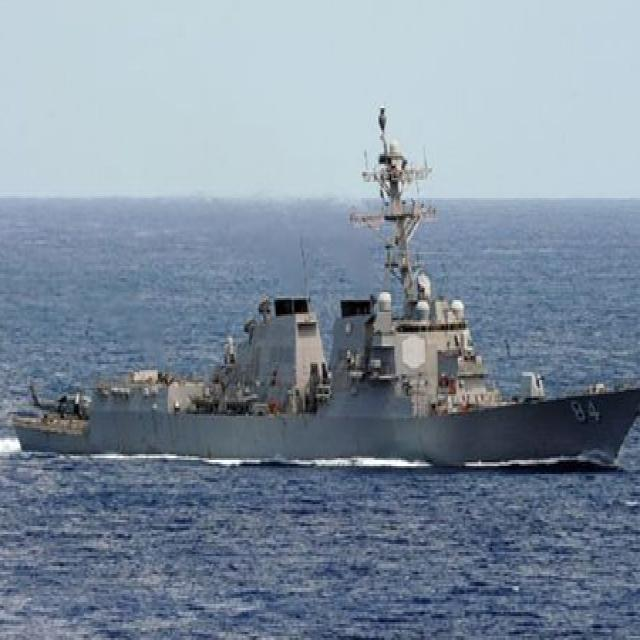navalvessels: (18, 84, 640, 470)
